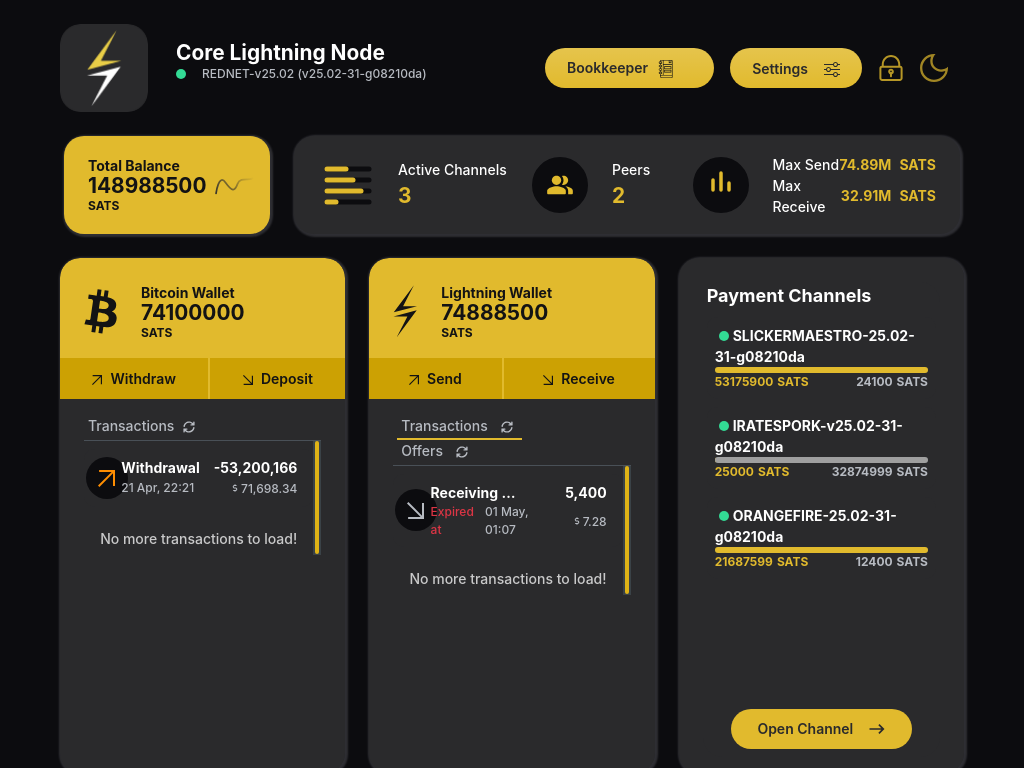
it: ChannelOpen component › should be in the document
Click the button with test id "button-open-channel" at (821, 728), box [731, 708, 912, 748]
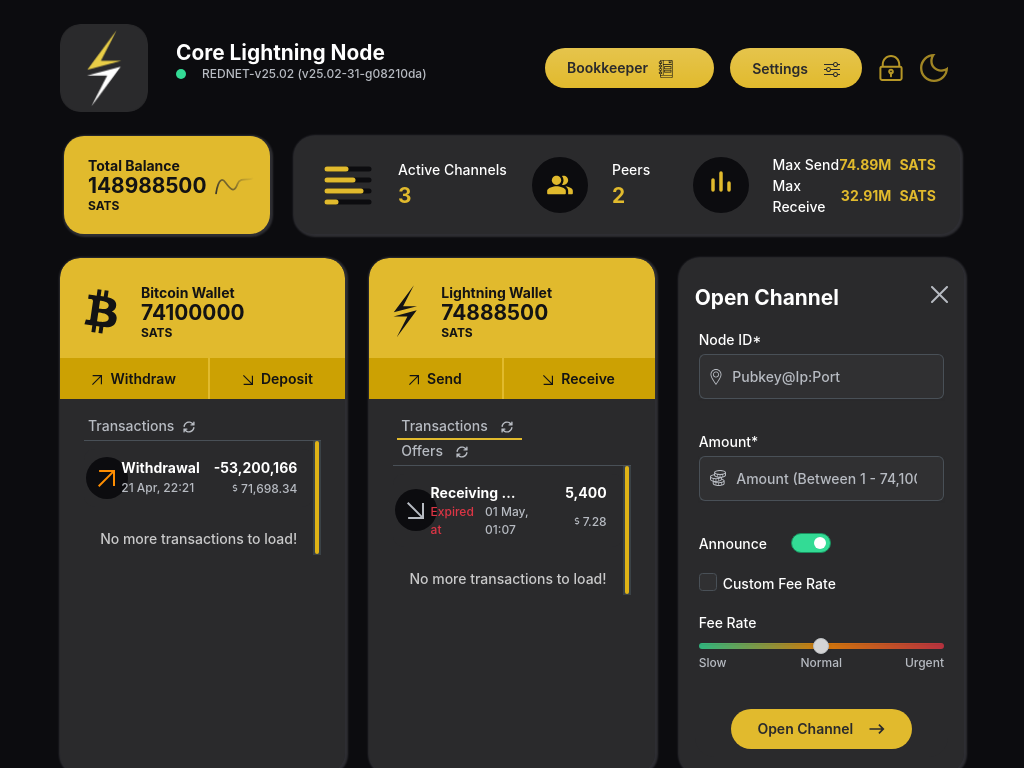
Expected: the field with test id "pubkey" is shown, [732, 354, 944, 399]
Expected: the number field with test id "amount" is shown, [736, 456, 944, 500]
Expected: the checkbox with test id "show-custom-fee-rate" is not checked, [699, 573, 717, 591]
